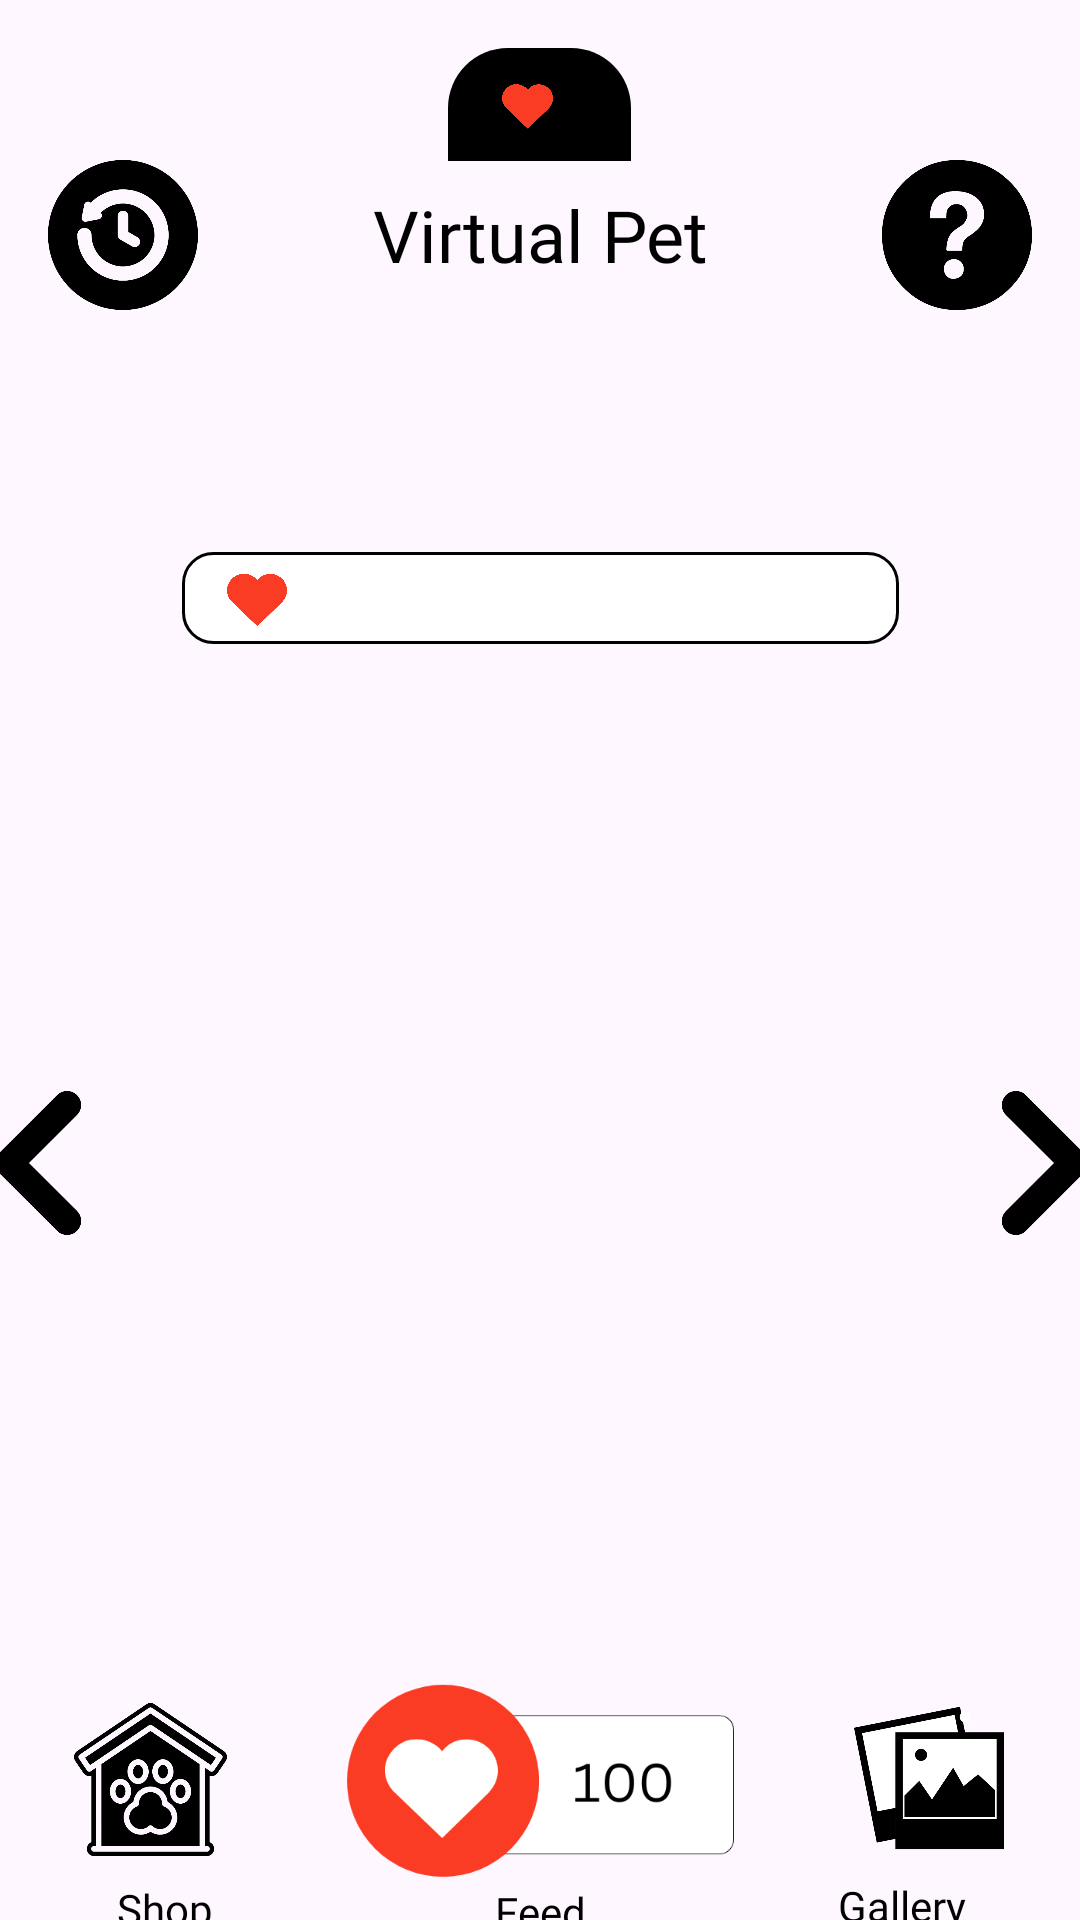

Point at icon controls on the screen. Image size 1080w x 1920h, points as (x,y).
Help Icon: (957,235)
History Icon: (123,235)
